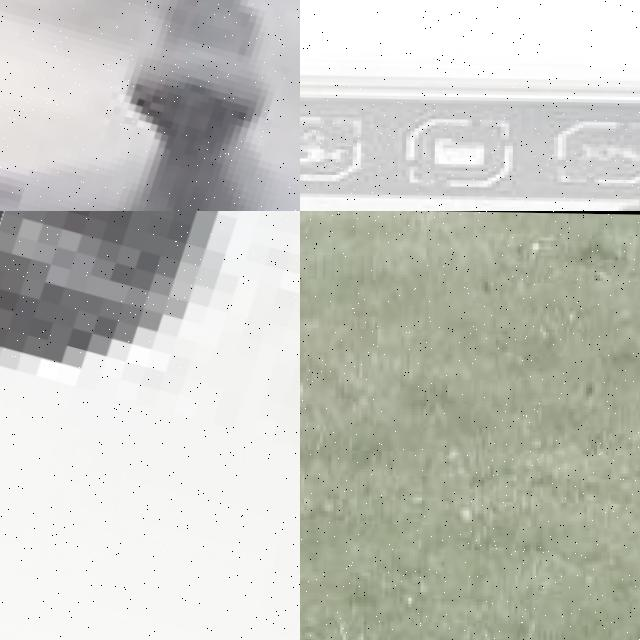0: (0, 0, 300, 211)
drone: (0, 211, 300, 640)
